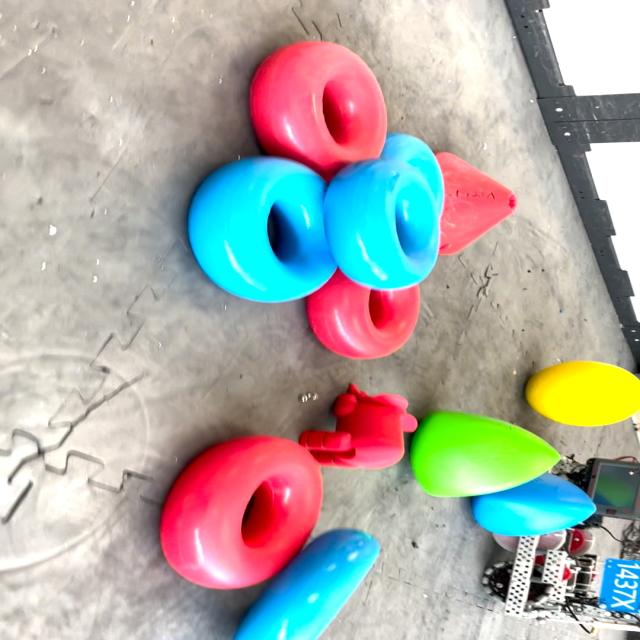Blue-Ring: (189, 156, 338, 302), (233, 529, 380, 640), (324, 159, 438, 290)
Red-Ring: (160, 435, 322, 589), (251, 41, 387, 179), (307, 270, 420, 359)
